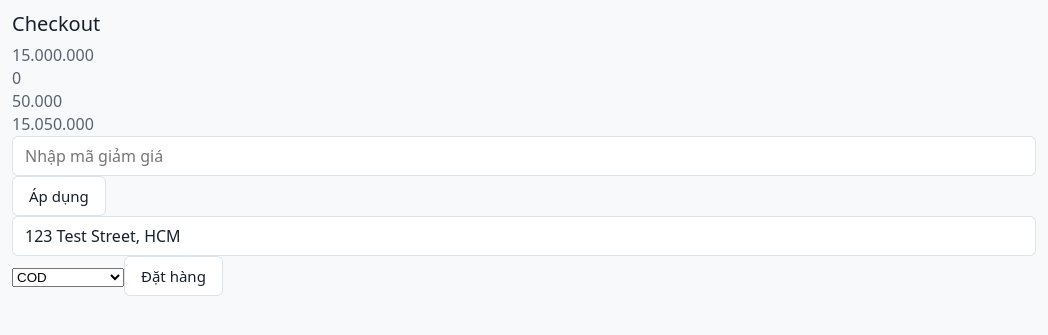
Test: Checkout Component Integration Tests › b) Test PriceCalculator component tinh gia real-time › TC3: Hien thi loi khi coupon khong hop le
Type "INVALID" into the field with test id "coupon-input" at (524, 156), box [12,136,1036,176]
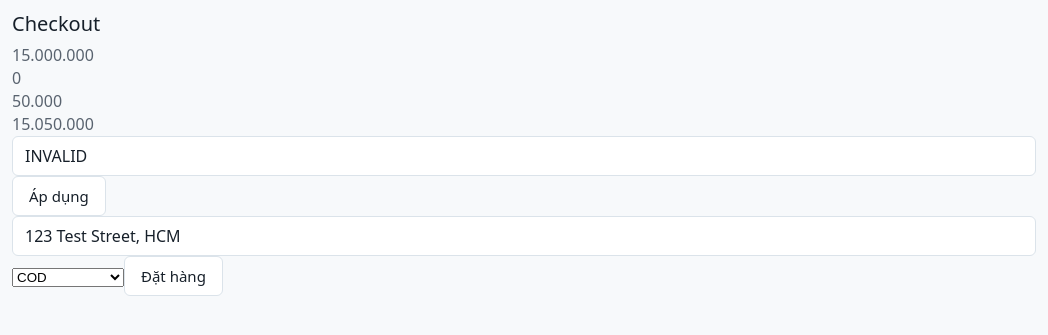
Click the button with test id "apply-coupon-btn" at (59, 196), box [12,176,106,216]
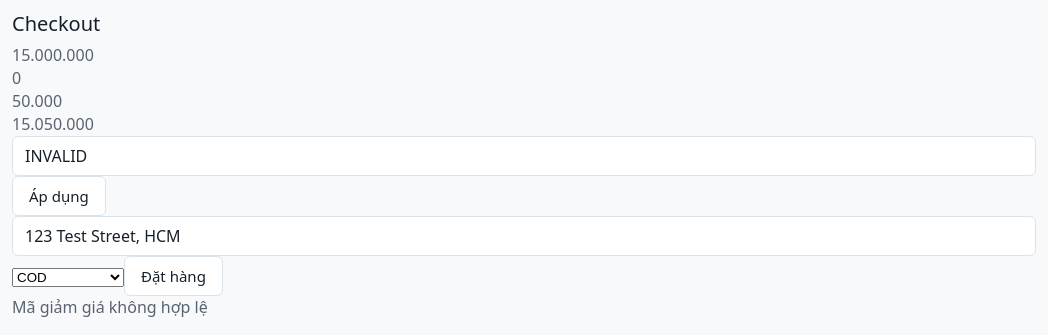
Check: the text "Mã giảm giá không hợp lệ" is shown, box [12,296,208,318]
